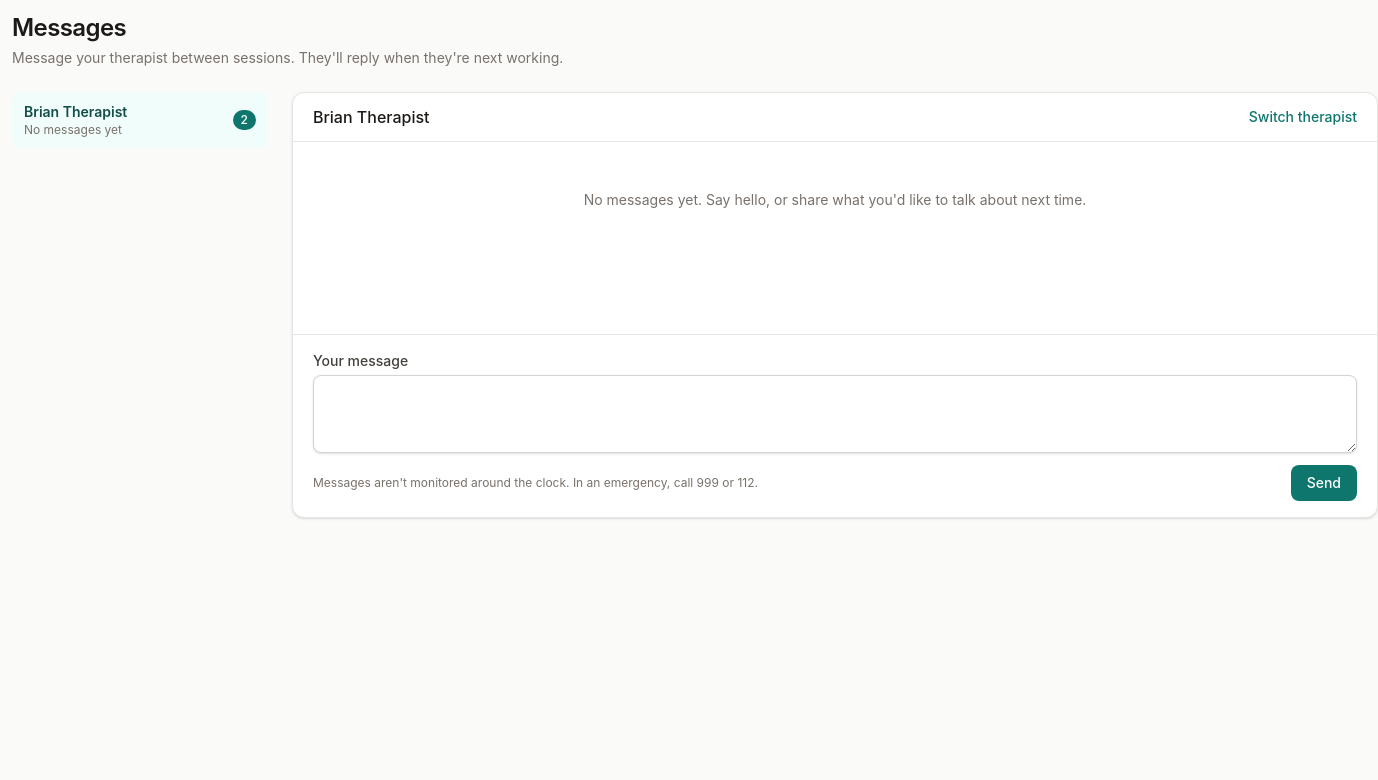
MessagesPage › shows emergency numbers after a client sends crisis language
Type "I want to end it all" into the text box labelled "Your message". click: (835,414)
box: x1=313 y1=375 x2=1357 y2=453
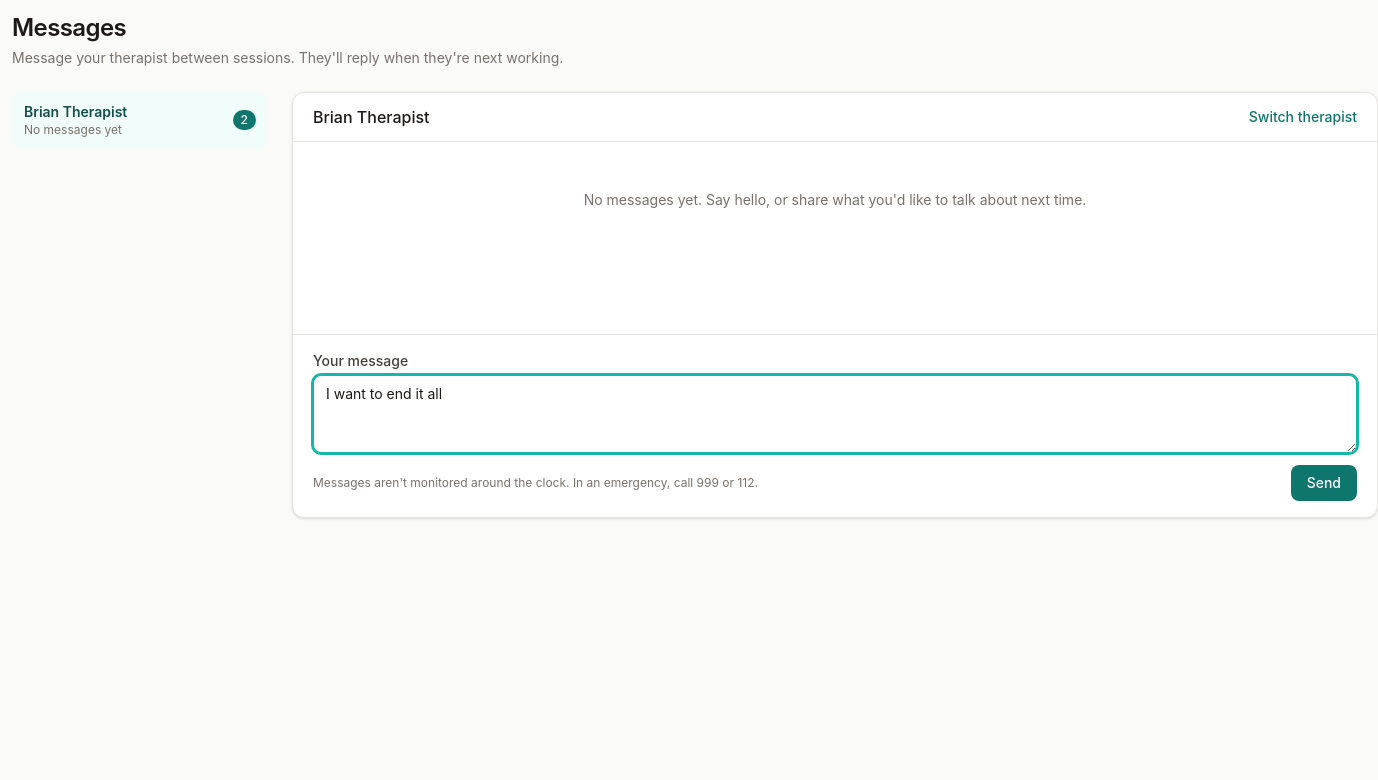
Click the button "Send". click: (1324,483)
box: x1=1291 y1=465 x2=1357 y2=501
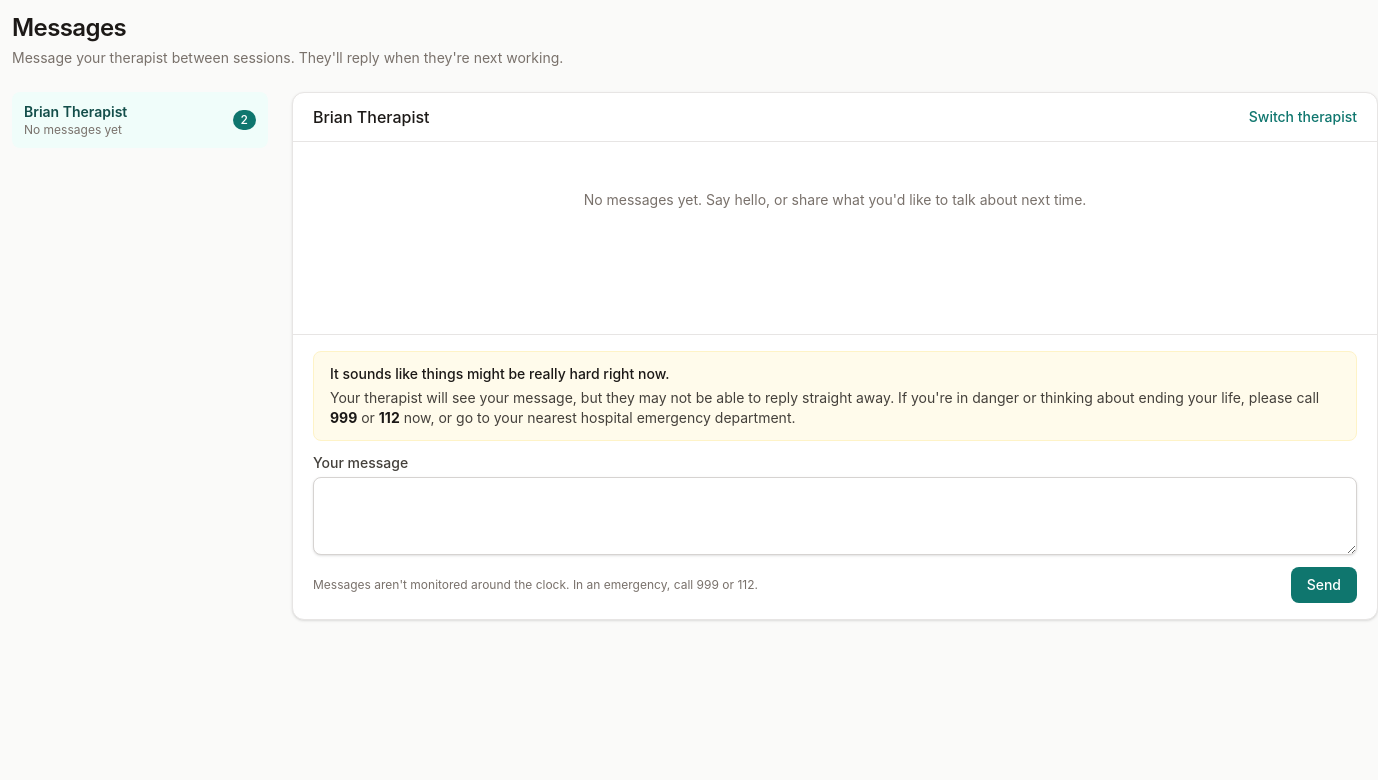
Result: the message shows "call 999 or 112" at x1=313 y1=351 x2=1357 y2=441
Result: the text box labelled "Your message" is empty at x1=313 y1=477 x2=1357 y2=555
